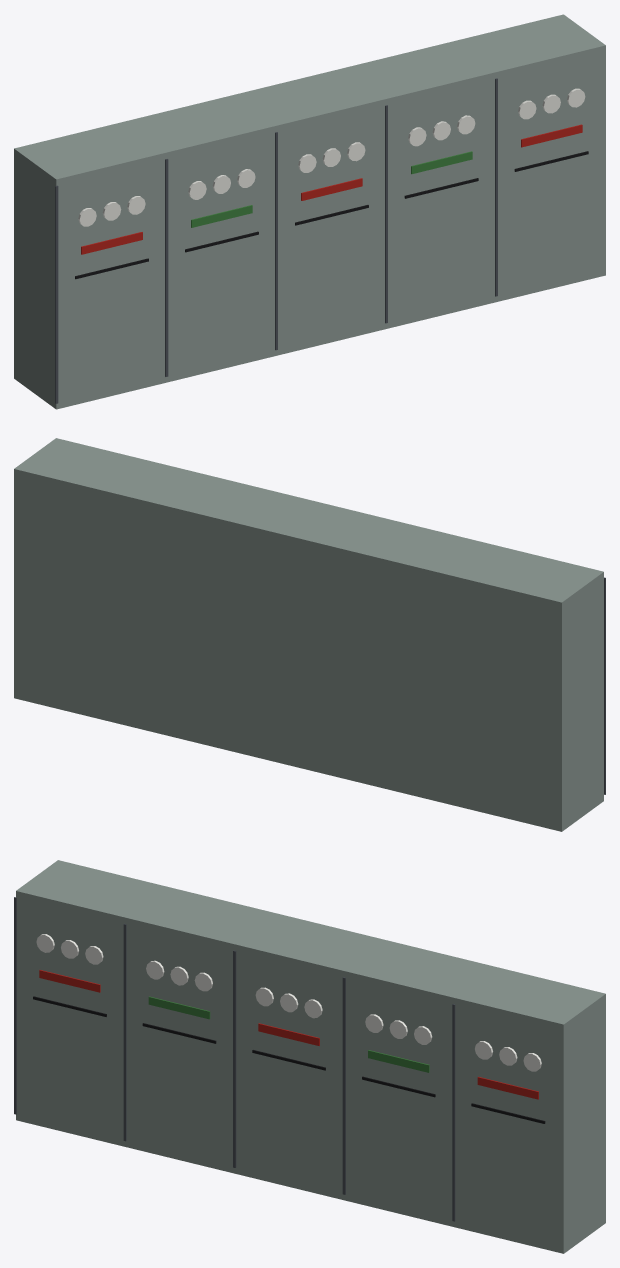
The model's file is control panel.glb.
3 views of the same model, one above another, from view 1: azimuth 30°, elevation 25°; view 2: azimuth 150°, elevation 25°; view 3: azimuth 330°, elevation 25° (orthographic).
Visible parts, largest first — view 1: control panel; view 2: control panel; view 3: control panel.
Part boxes in pixels (<box>): control panel: <box>14,14,605,409</box>; control panel: <box>14,438,605,831</box>; control panel: <box>14,860,605,1253</box>.
Size of the model in its own units: 4.51 by 1.8 by 0.62.
